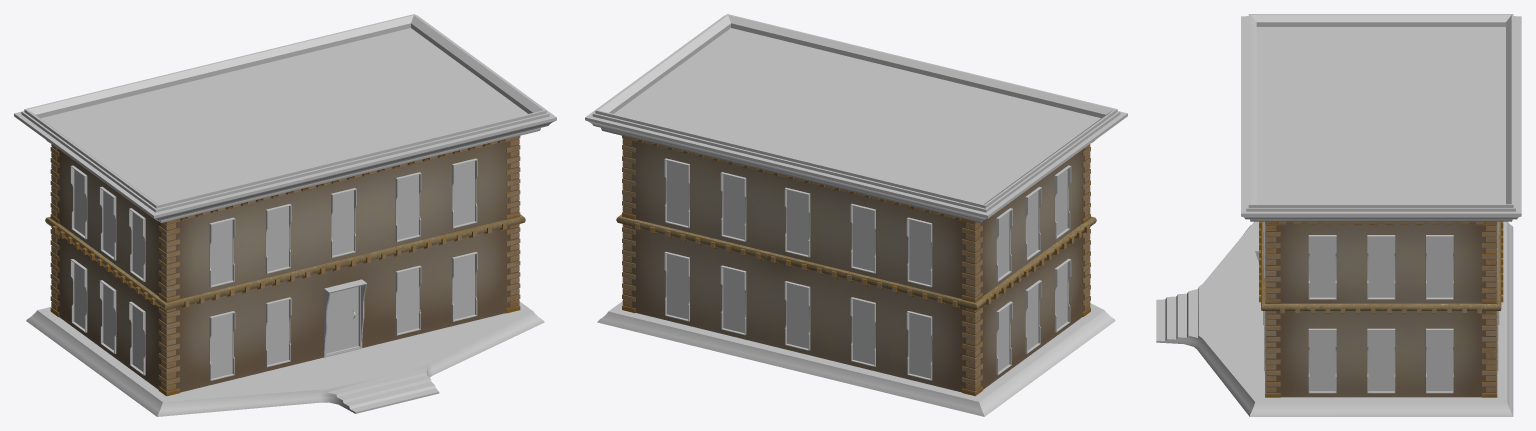
The picture shows the model from 3 angles, left to right: view 1: azimuth 30°, elevation 25°; view 2: azimuth 150°, elevation 25°; view 3: azimuth 270°, elevation 25°; orthographic projection.
Parts seen in each view (by area): view 1: House_Cube.002; view 2: House_Cube.002; view 3: House_Cube.002.
Part boxes in pixels (bbox=[...]): House_Cube.002: bbox=[14, 14, 556, 416]; House_Cube.002: bbox=[585, 14, 1127, 416]; House_Cube.002: bbox=[1156, 14, 1521, 416].
Size of the model in its own units: 1321 by 663 by 1032.
